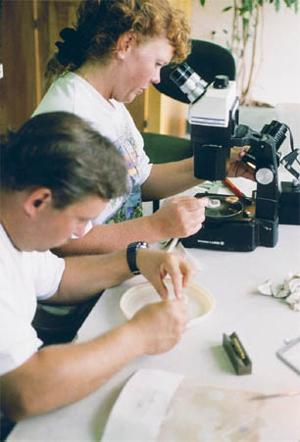person: (28, 4, 250, 320)
